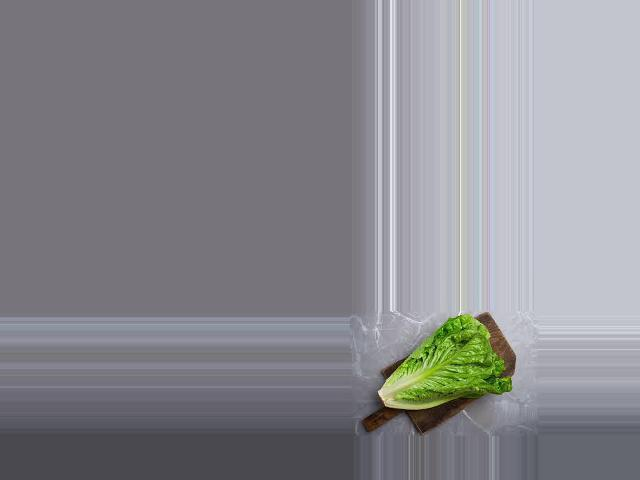lettuce: (354, 317, 513, 437)
